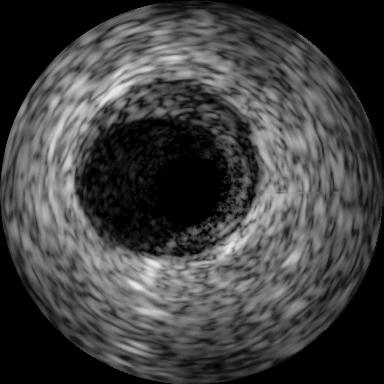Lumen: (158, 149, 224, 226)
